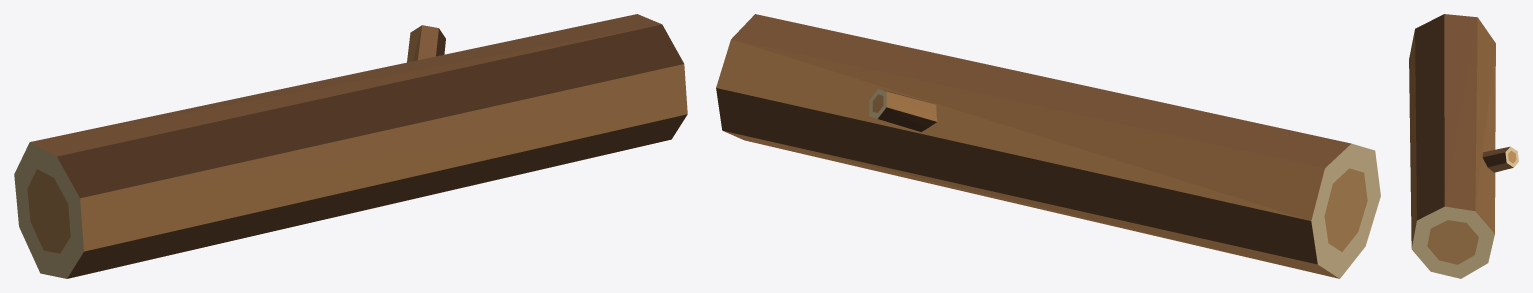
Rendered from felled_log_short.glb.
3 views of the same model, side by side, from view 1: azimuth 30°, elevation 25°; view 2: azimuth 150°, elevation 25°; view 3: azimuth 270°, elevation 25° (orthographic). The views are drawn at different scales.
Parts seen in each view (by area): view 1: felled_log_short; view 2: felled_log_short; view 3: felled_log_short.
Part boxes in pixels (box(x1,y1,x2,y2)): felled_log_short: box(14, 14, 687, 278); felled_log_short: box(716, 14, 1380, 278); felled_log_short: box(1409, 14, 1518, 278).
Bounding box in the file's own units: 2.46 × 0.5181 × 0.6225.
